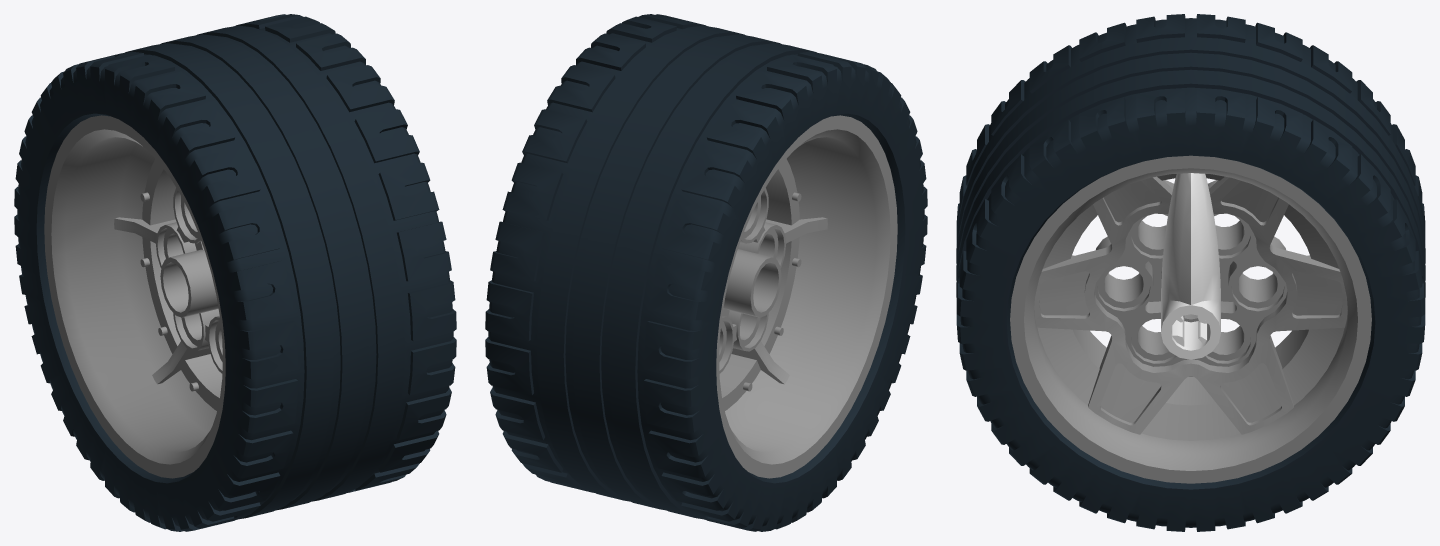
The model's file is modelo_base_diff_wheel_right.obj.
3 renders of one model, left to right at view 1: azimuth 30°, elevation 25°; view 2: azimuth 150°, elevation 25°; view 3: azimuth 270°, elevation 25°, orthographic. The views are drawn at different scales.
Visible parts, largest first — view 1: Piece000, Piece001; view 2: Piece000, Piece001; view 3: Piece000, Piece001, Piece002.
Boxes of the visible parts, left/top/right/bottom form: Piece000: left=14, top=14, right=456, bottom=531; Piece001: left=44, top=115, right=225, bottom=478; Piece000: left=485, top=14, right=927, bottom=531; Piece001: left=716, top=115, right=897, bottom=478; Piece000: left=956, top=14, right=1425, bottom=531; Piece001: left=1010, top=155, right=1371, bottom=483; Piece002: left=1161, top=173, right=1220, bottom=359.
Size of the model in its own units: 77 by 140 by 140.
